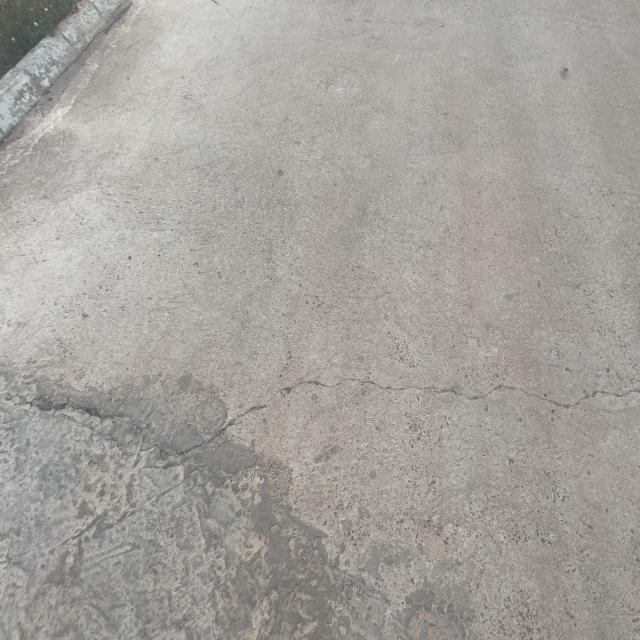D43: (6, 359, 611, 475)
